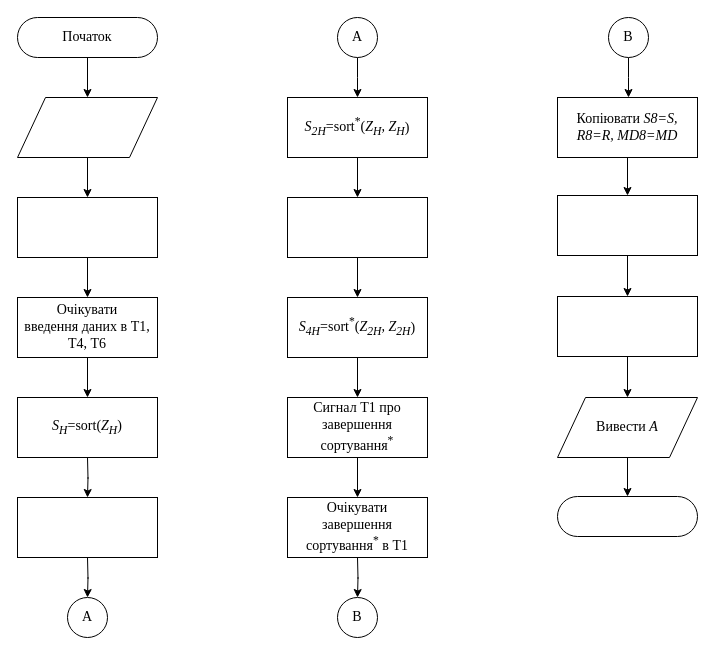
The diagram is 715 pixels wide and 655 high, and some of its shapes have lost their labels. Here are the shapes that lost their labels. From the top down, the centre of each, then its label:
At (x=87, y=127): "Ввести MD".
At (x=87, y=227): "Сигнал Т1-Т7 про введення даних".
At (x=357, y=227): "Очікувати завершення сортування * в Т6".
At (x=627, y=225): "Обчислити A H =S8*MX H + S8[1]*R8*(MD8*ME H )".
At (x=627, y=326): "Сигнал Т8 про завершення обчислення".
At (x=87, y=527): "Очікувати завершення сортування в Т7".
At (x=627, y=516): "Кінець".
